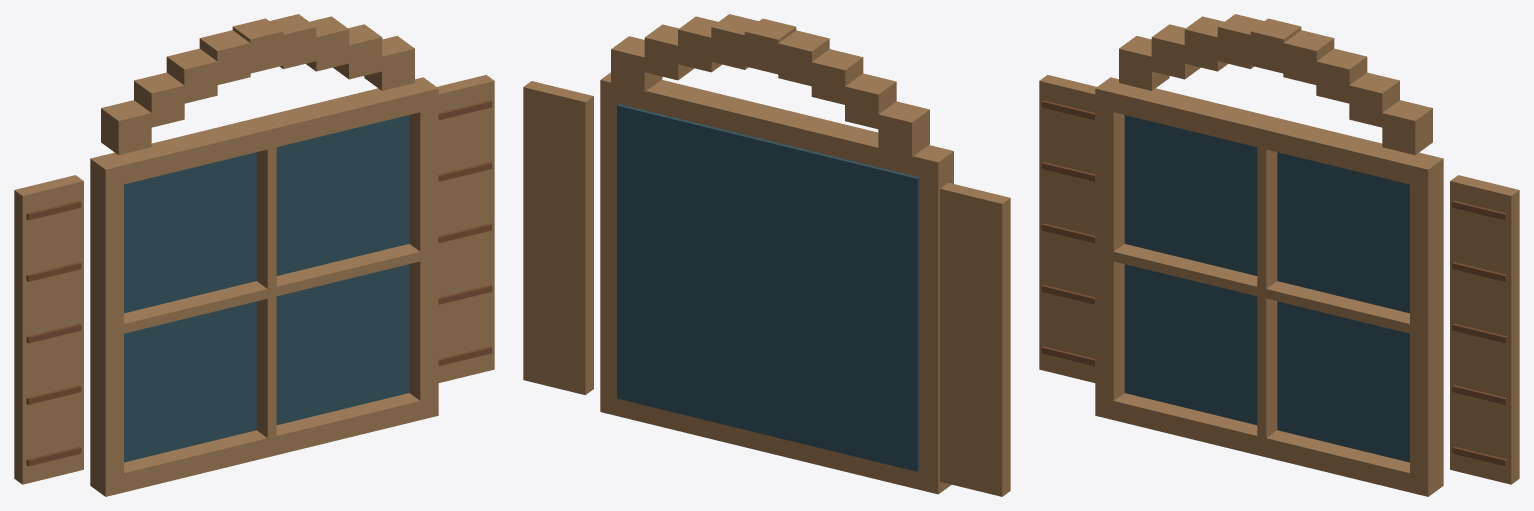
File: window_11.glb
3 views of the same model, side by side, from view 1: azimuth 30°, elevation 25°; view 2: azimuth 150°, elevation 25°; view 3: azimuth 330°, elevation 25° (orthographic).
Parts seen in each view (by area): view 1: window_11; view 2: window_11; view 3: window_11.
Boxes of the visible parts, x1,y1,x2,y2 form: window_11: (14,14,494,496); window_11: (523,14,1010,496); window_11: (1039,14,1519,496).
Bounding box in the file's own units: 2.31 × 1.95 × 0.195.
